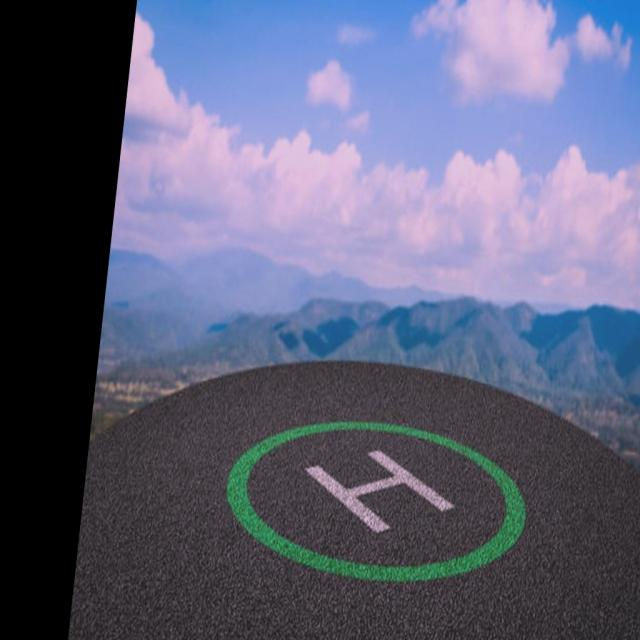helipad: (218, 414, 533, 585)
